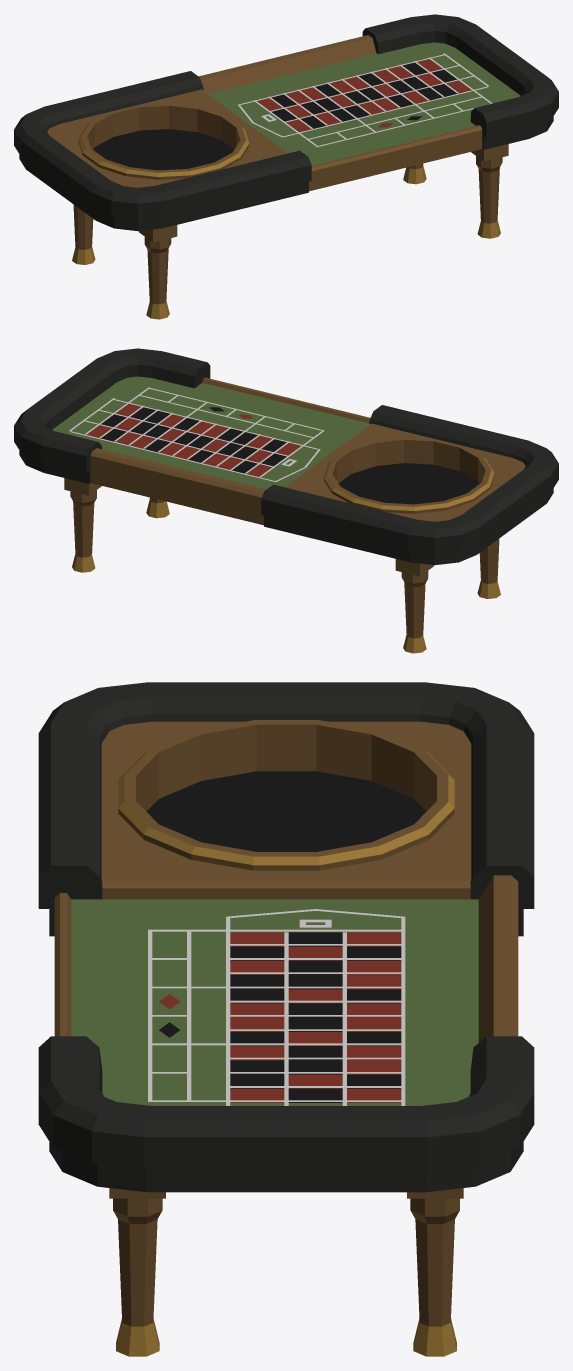
The model's file is roulette-table-75c9b1.glb.
3 renders of one model, top to bottom at view 1: azimuth 30°, elevation 25°; view 2: azimuth 150°, elevation 25°; view 3: azimuth 270°, elevation 25°, orthographic. The views are drawn at different scales.
Visible parts, largest first — view 1: roulette-table-body; view 2: roulette-table-body; view 3: roulette-table-body.
Part boxes in pixels (<box>): roulette-table-body: <box>14,14,558,319</box>; roulette-table-body: <box>14,348,558,653</box>; roulette-table-body: <box>38,682,534,1356</box>.
Size of the model in its own units: 3 by 0.885 by 1.4.
